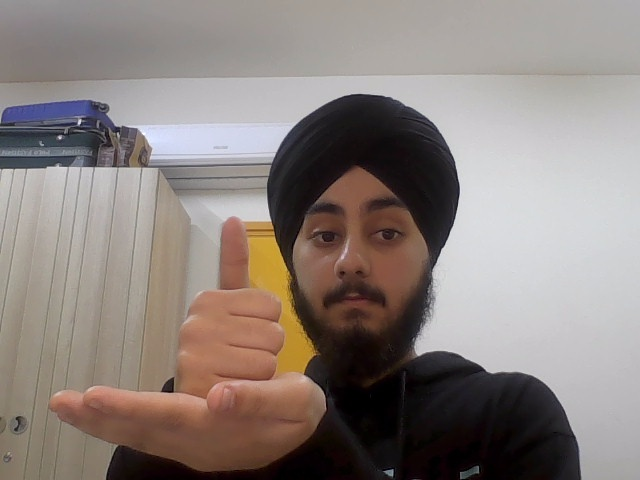Help: (42, 213, 325, 470)
